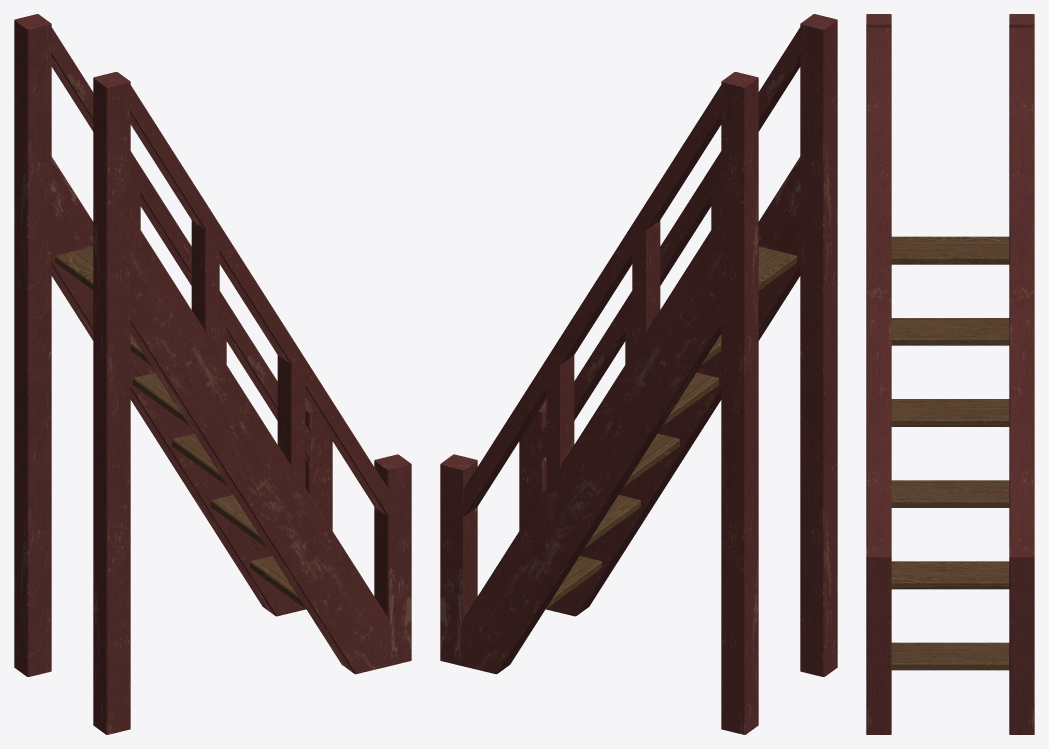
Rendered from SM_Stair01a.fbx.
3 views of the same model, side by side, from view 1: azimuth 30°, elevation 25°; view 2: azimuth 150°, elevation 25°; view 3: azimuth 270°, elevation 25° (orthographic). The views are drawn at different scales.
Visible parts, largest first — view 1: SM_Stair01a; view 2: SM_Stair01a; view 3: SM_Stair01a.
Boxes of the visible parts, bbox=[...] form: SM_Stair01a: bbox=[14, 14, 411, 734]; SM_Stair01a: bbox=[440, 14, 837, 734]; SM_Stair01a: bbox=[866, 14, 1034, 734].
Size of the model in its own units: 163 by 330 by 86.
